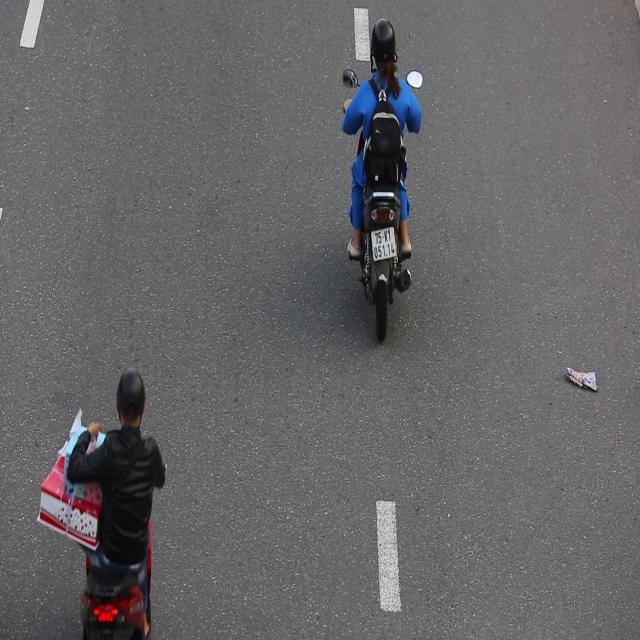motorbike: (332, 14, 425, 355)
